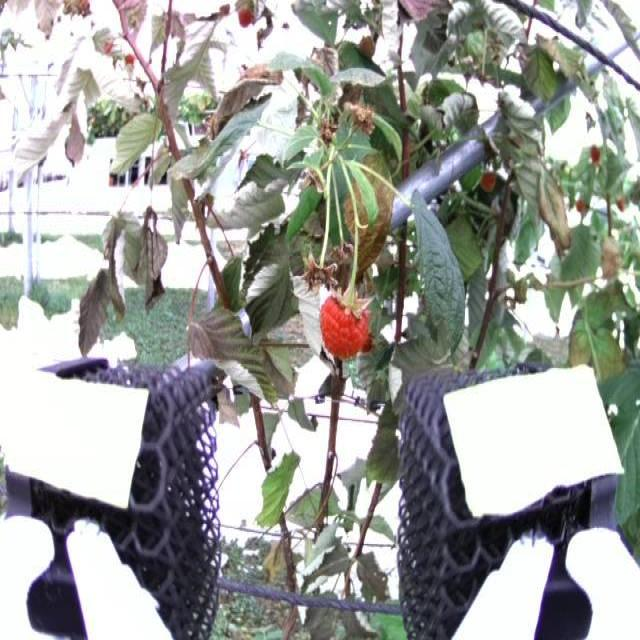Riped berries: (320, 287, 377, 360)
